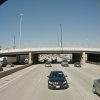Bridge: (7, 39, 100, 69)
